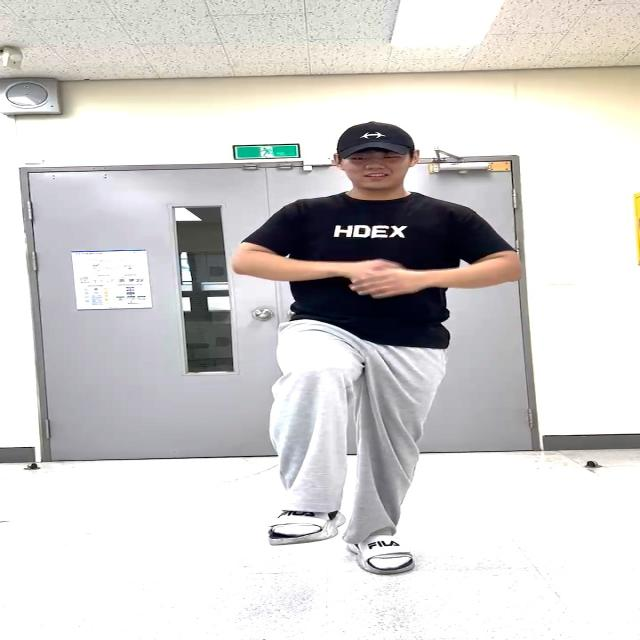leg: (262, 319, 354, 532)
